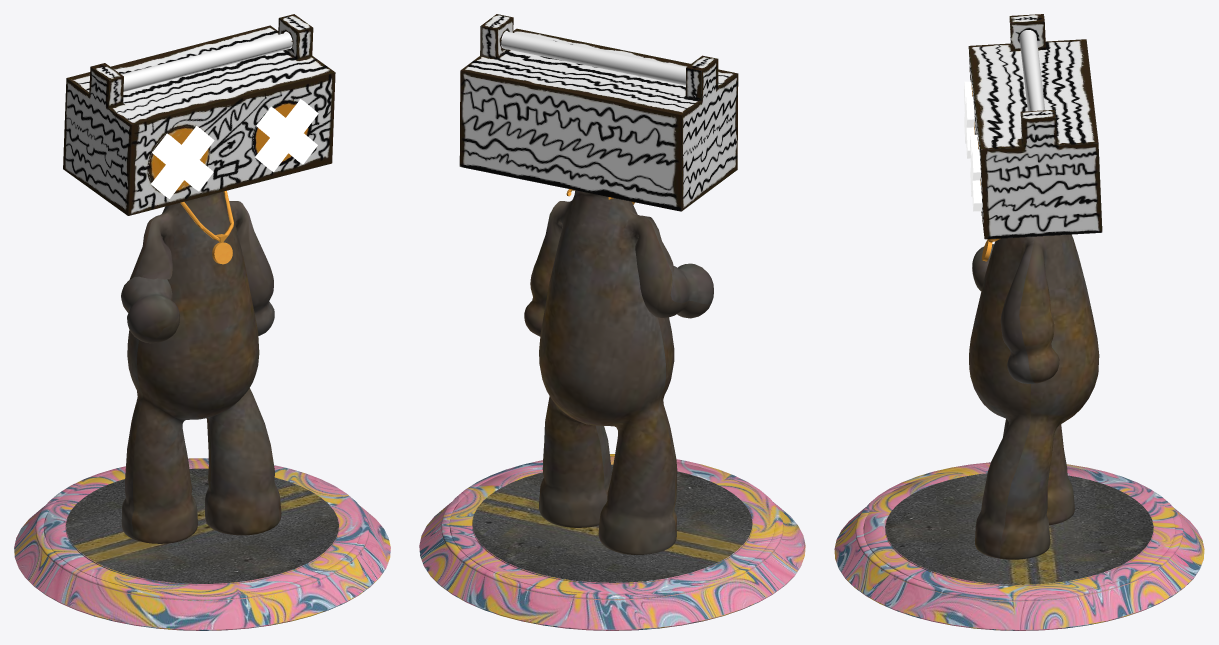
The picture shows the model from 3 angles, left to right: view 1: azimuth 30°, elevation 25°; view 2: azimuth 150°, elevation 25°; view 3: azimuth 270°, elevation 25°; orthographic projection. The views are drawn at different scales.
Size of the model in its own units: 1.45 by 2.12 by 1.45.
Materials: 6 (5 with a texture image).
